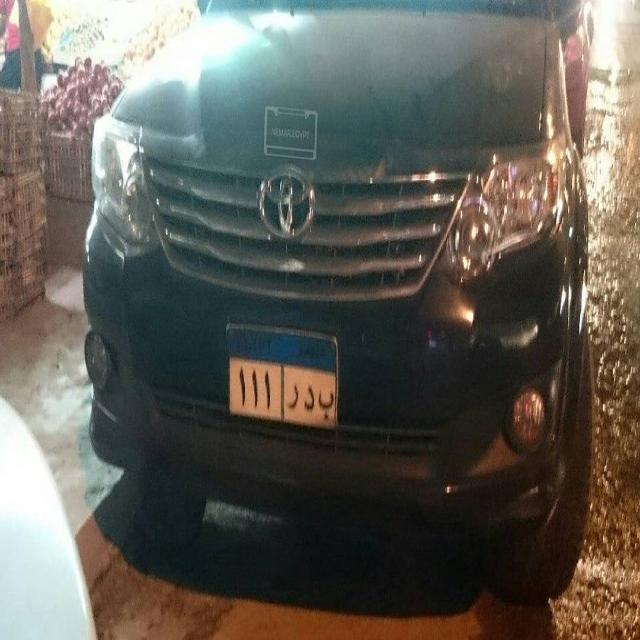License Plate: (222, 318, 341, 438)
